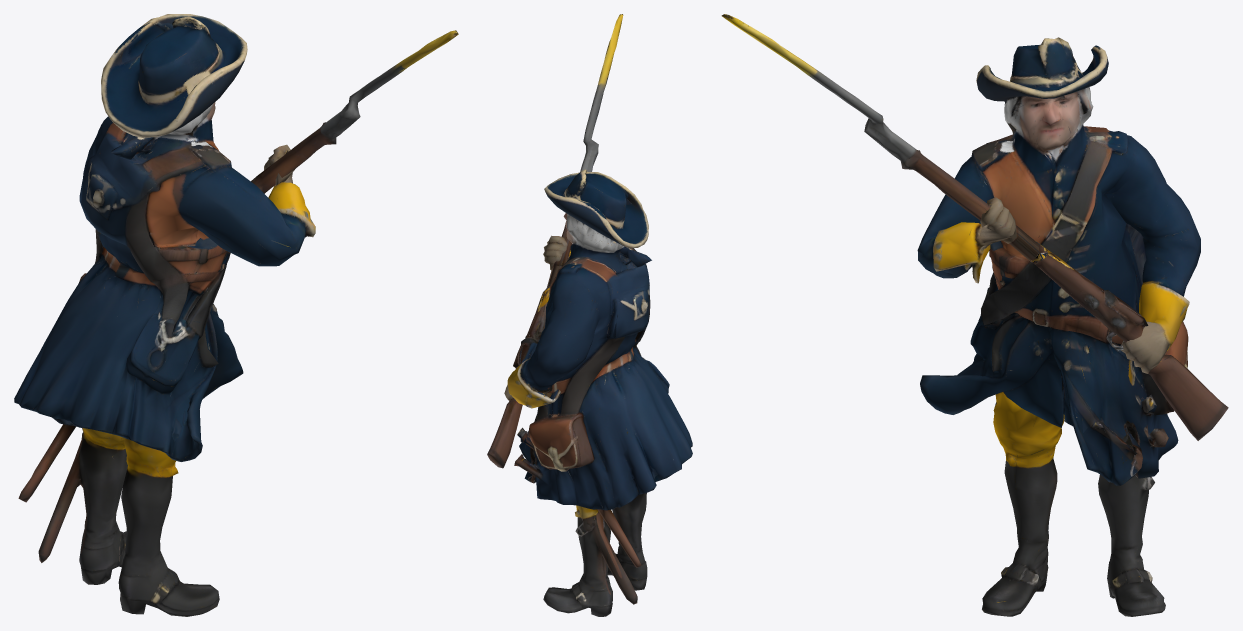
File: MUSKETEER_SWE_Def.glb
The picture shows the model from 3 angles, left to right: view 1: azimuth 30°, elevation 25°; view 2: azimuth 150°, elevation 25°; view 3: azimuth 270°, elevation 25°; orthographic projection. The views are drawn at different scales.
Visible parts, largest first — view 1: Mesh1.005; view 2: Mesh1.005; view 3: Mesh1.005.
Part boxes in pixels (box(x1,y1,x2,y2)): Mesh1.005: box(14, 14, 458, 616); Mesh1.005: box(487, 14, 692, 616); Mesh1.005: box(721, 14, 1228, 616).
Bounding box in the file's own units: 0.8602 × 2.05 × 1.41.
Materials: 1 (1 with a texture image).
